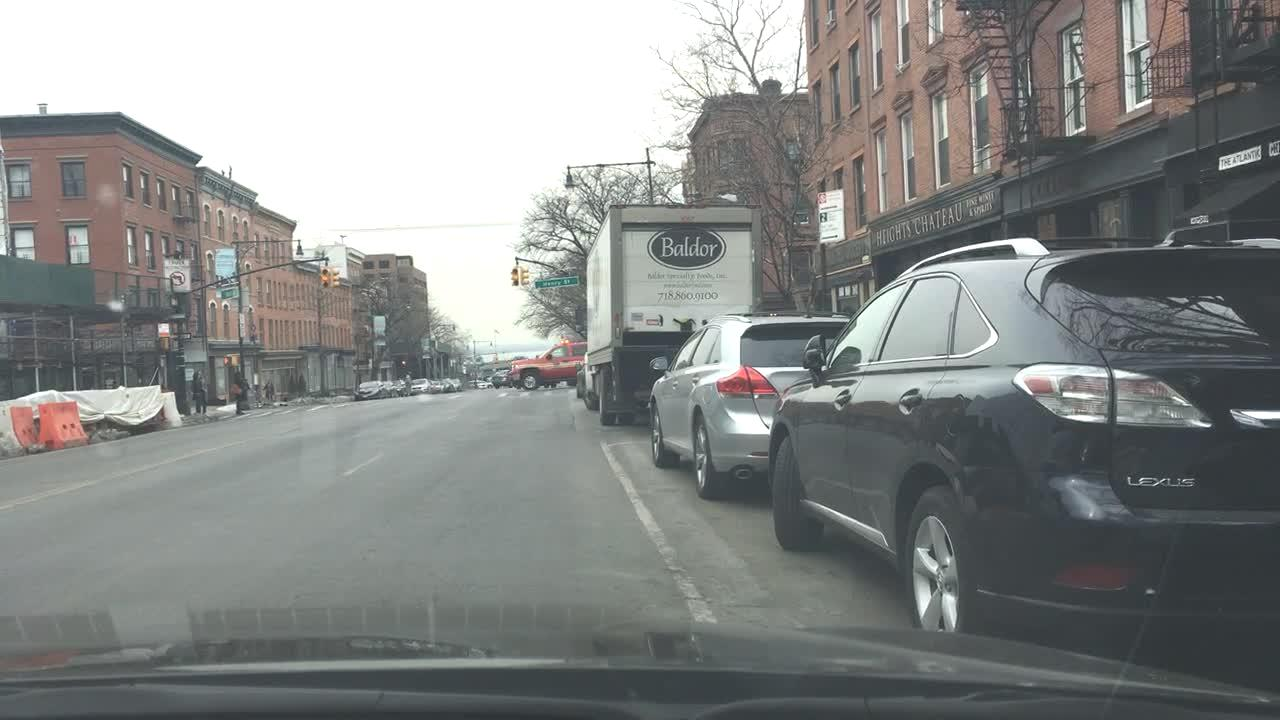lexus: (1121, 468, 1201, 497)
